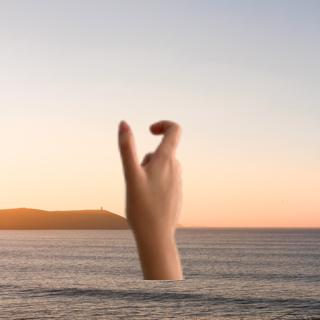Irritated: (111, 111, 195, 270)
